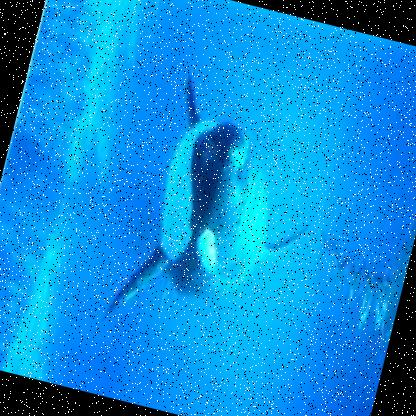killer_whale: (55, 0, 362, 366)
